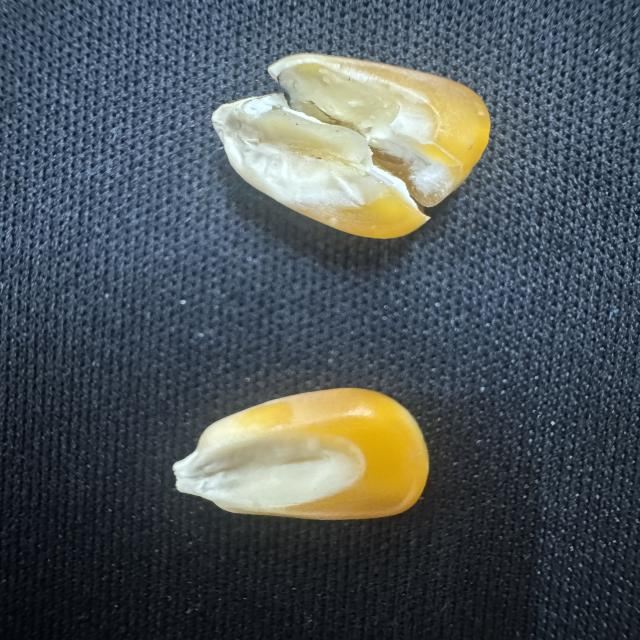Bad-Seed: (206, 46, 499, 245)
Good-Seed: (164, 380, 442, 526)
